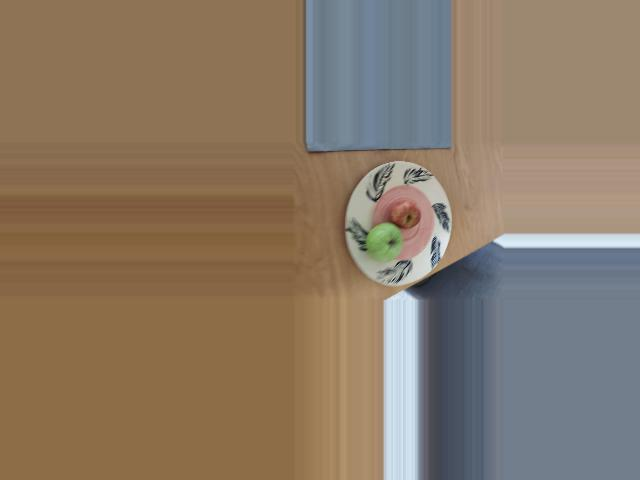apple: (362, 222, 402, 263)
